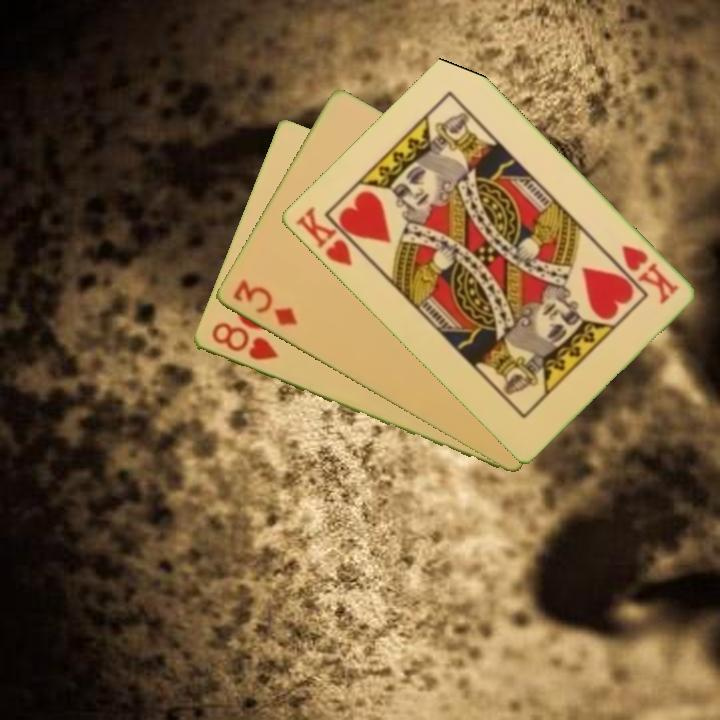3d: (228, 276, 300, 329)
8h: (207, 319, 281, 364)
Kh: (292, 202, 369, 270), (617, 241, 681, 308)
